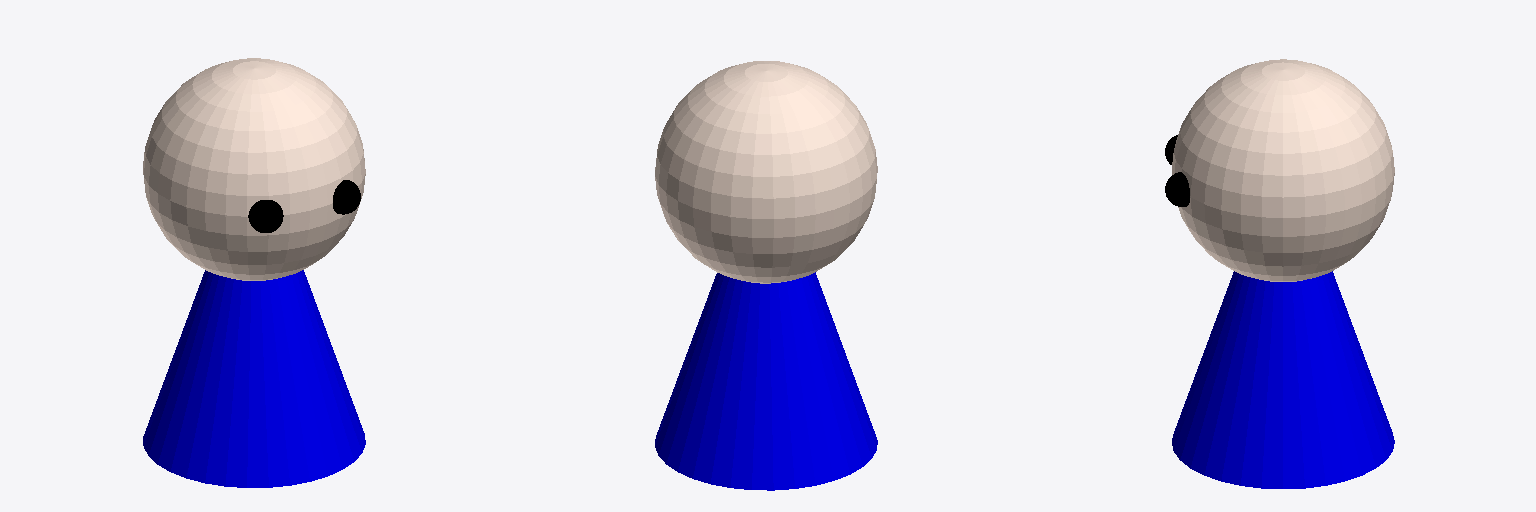
The picture shows the model from 3 angles: view 1: azimuth 30°, elevation 25°; view 2: azimuth 150°, elevation 25°; view 3: azimuth 270°, elevation 25°; orthographic projection.
Visible parts, largest first — view 1: player; view 2: player; view 3: player.
Boxes of the visible parts, <box> form: player: <box>143,58,365,487</box>; player: <box>655,61,877,490</box>; player: <box>1165,59,1394,488</box>.
Bounding box in the file's own units: 1 × 1.84 × 1.03.
Materials: 1 (1 with a texture image).